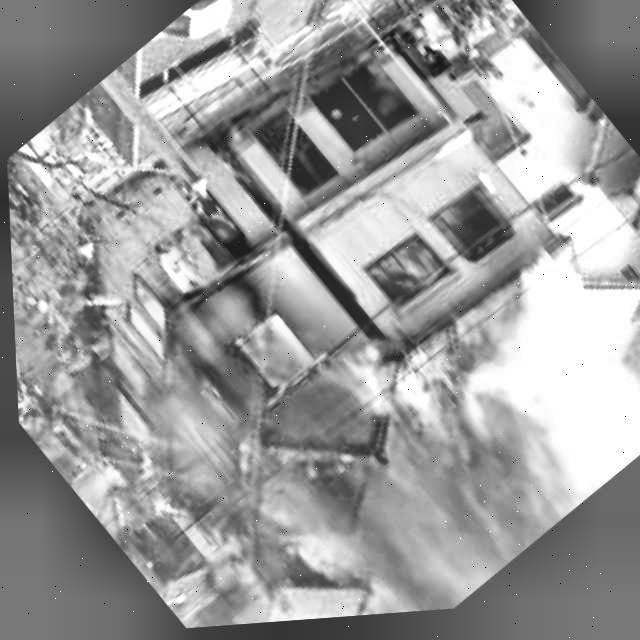Fire: (57, 125, 402, 497), (362, 230, 446, 316)
Smoke: (246, 236, 640, 626)
